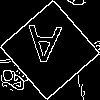A: (25, 25, 62, 73)
